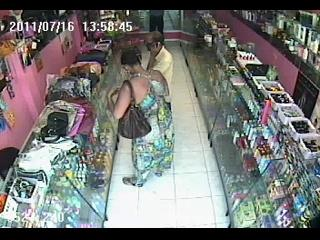Normal: (113, 48, 175, 187), (118, 80, 152, 140), (144, 31, 174, 98)
